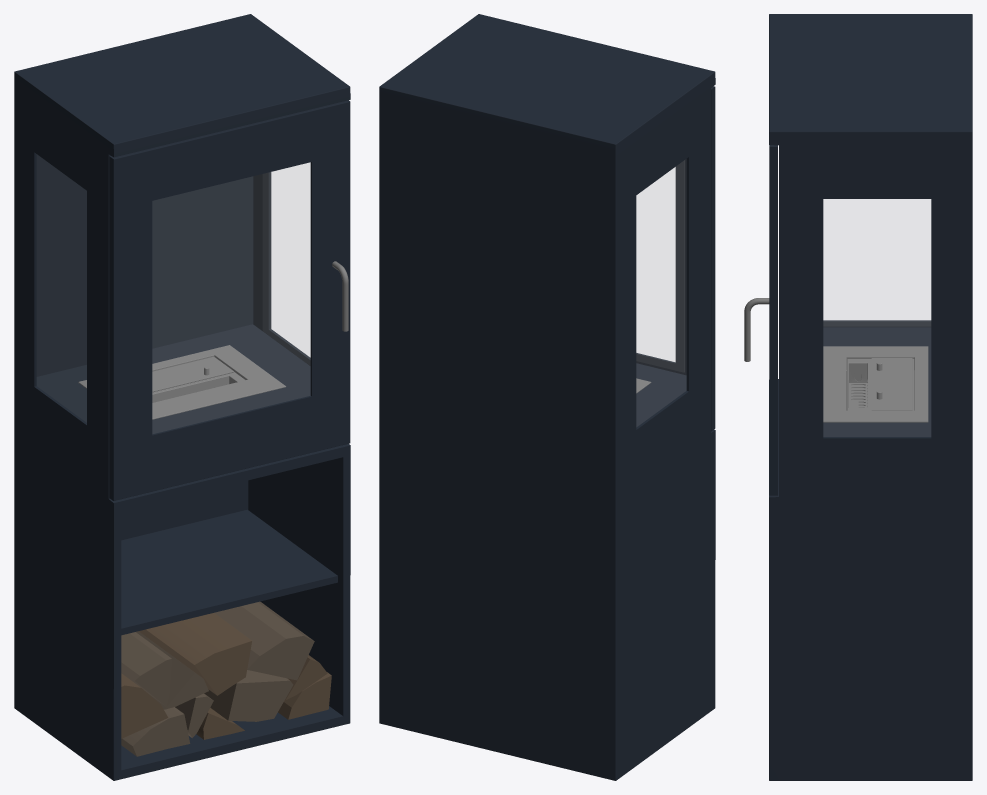
The model's file is bio-20-304_wood.gltf.
The picture shows the model from 3 angles, left to right: view 1: azimuth 30°, elevation 25°; view 2: azimuth 150°, elevation 25°; view 3: azimuth 270°, elevation 25°; orthographic projection.
Visible parts, largest first — view 1: c89dc47e-9fb3-42ac-80b2-eeb254480f34, mesh_16, mesh_17, mesh_19, mesh_14, mesh_24, mesh_21, mesh_15, mesh_22, mesh_20, mesh_23, mesh_18; view 2: c89dc47e-9fb3-42ac-80b2-eeb254480f34; view 3: c89dc47e-9fb3-42ac-80b2-eeb254480f34.
Part boxes in pixels (bbox=[...]): c89dc47e-9fb3-42ac-80b2-eeb254480f34: bbox=[14, 14, 350, 780]; mesh_16: bbox=[139, 613, 251, 695]; mesh_17: bbox=[214, 601, 314, 680]; mesh_19: bbox=[204, 670, 293, 721]; mesh_14: bbox=[121, 632, 171, 706]; mesh_24: bbox=[121, 707, 190, 756]; mesh_21: bbox=[121, 673, 168, 738]; mesh_15: bbox=[136, 631, 208, 709]; mesh_22: bbox=[278, 672, 331, 719]; mesh_20: bbox=[175, 693, 213, 737]; mesh_23: bbox=[196, 708, 244, 739]; mesh_18: bbox=[285, 655, 327, 700]; c89dc47e-9fb3-42ac-80b2-eeb254480f34: bbox=[379, 14, 715, 780]; c89dc47e-9fb3-42ac-80b2-eeb254480f34: bbox=[744, 14, 972, 780].
Bounding box in the file's own units: 0.3724 × 0.9562 × 0.3046.
